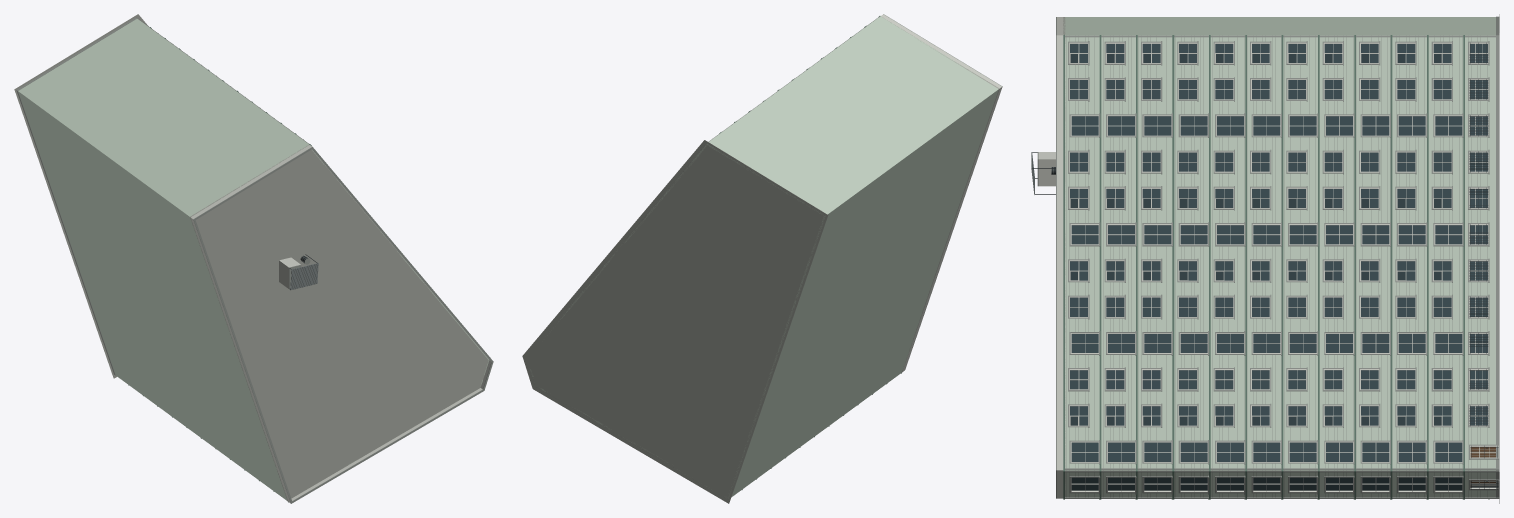
File: lot_1134979.obj
3 views of the same model, side by side, from view 1: azimuth 30°, elevation 25°; view 2: azimuth 150°, elevation 25°; view 3: azimuth 270°, elevation 25° (orthographic). The views are drawn at different scales.
Visible parts, largest first — view 1: roof_slab_114652, wall_16, wall_114628, parapet_cap_114708, parapet_114668, lot_paving_0, canopy_sheet_114804, plinth_28; view 2: lot_paving_0, wall_16, wall_114628, parapet_114668; view 3: wall_114628, parapet_114668, plinth_114448, corner_pilaster_114616, corner_pilaster_47956, floor_band_114556, floor_band_114484, floor_band_114520, floor_band_114580, floor_band_114460, floor_band_114472, floor_band_114496 (+49 smaller).
Part boxes in pixels (x1,y1,x2,y2): roof_slab_114652: (190,144,488,500); wall_16: (18,91,287,500); wall_114628: (18,18,308,216); parapet_cap_114708: (193,147,493,503); parapet_114668: (190,145,491,503); lot_paving_0: (14,14,147,378); canopy_sheet_114804: (290,263,318,289); plinth_28: (16,90,115,375); lot_paving_0: (522,140,828,503); wall_16: (728,89,998,498); wall_114628: (707,16,998,215); parapet_114668: (881,14,1001,371); wall_114628: (1063,17,1495,35); parapet_114668: (1057,17,1063,498); plinth_114448: (1496,35,1499,470); corner_pilaster_114616: (1065,35,1499,37); corner_pilaster_47956: (1065,470,1499,472); floor_band_114556: (1172,35,1174,470); floor_band_114484: (1390,35,1392,470); floor_band_114520: (1281,35,1283,470); floor_band_114580: (1099,35,1101,470); floor_band_114460: (1463,35,1464,470); floor_band_114472: (1427,35,1428,470); floor_band_114496: (1354,35,1355,470).
Size of the model in its own units: 34.16 by 38.21 by 36.08.
